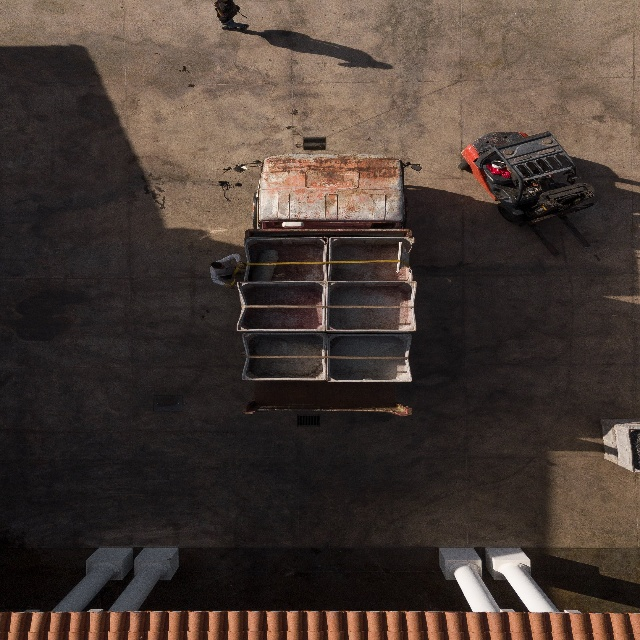Guantes: (224, 282, 235, 290), (236, 261, 244, 269)
Sin_guantes: (213, 2, 219, 7)
